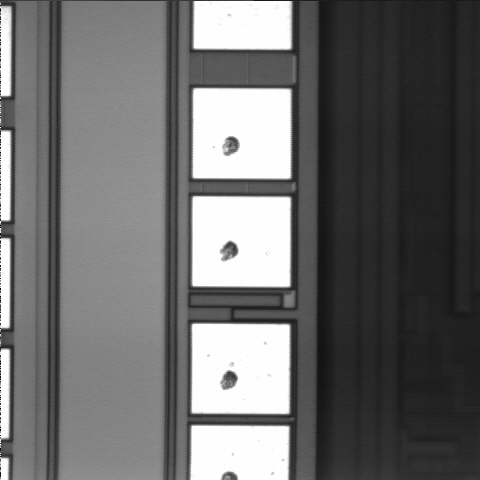pad: (193, 88, 291, 179), (192, 196, 290, 287), (192, 324, 290, 414)
